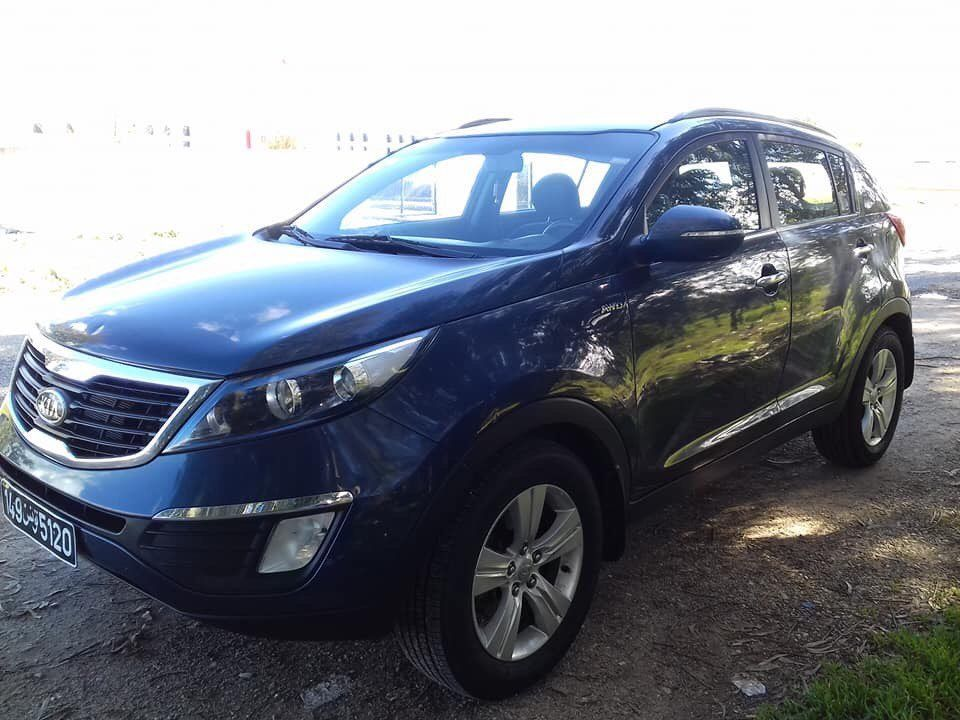LP: (1, 479, 77, 567)
